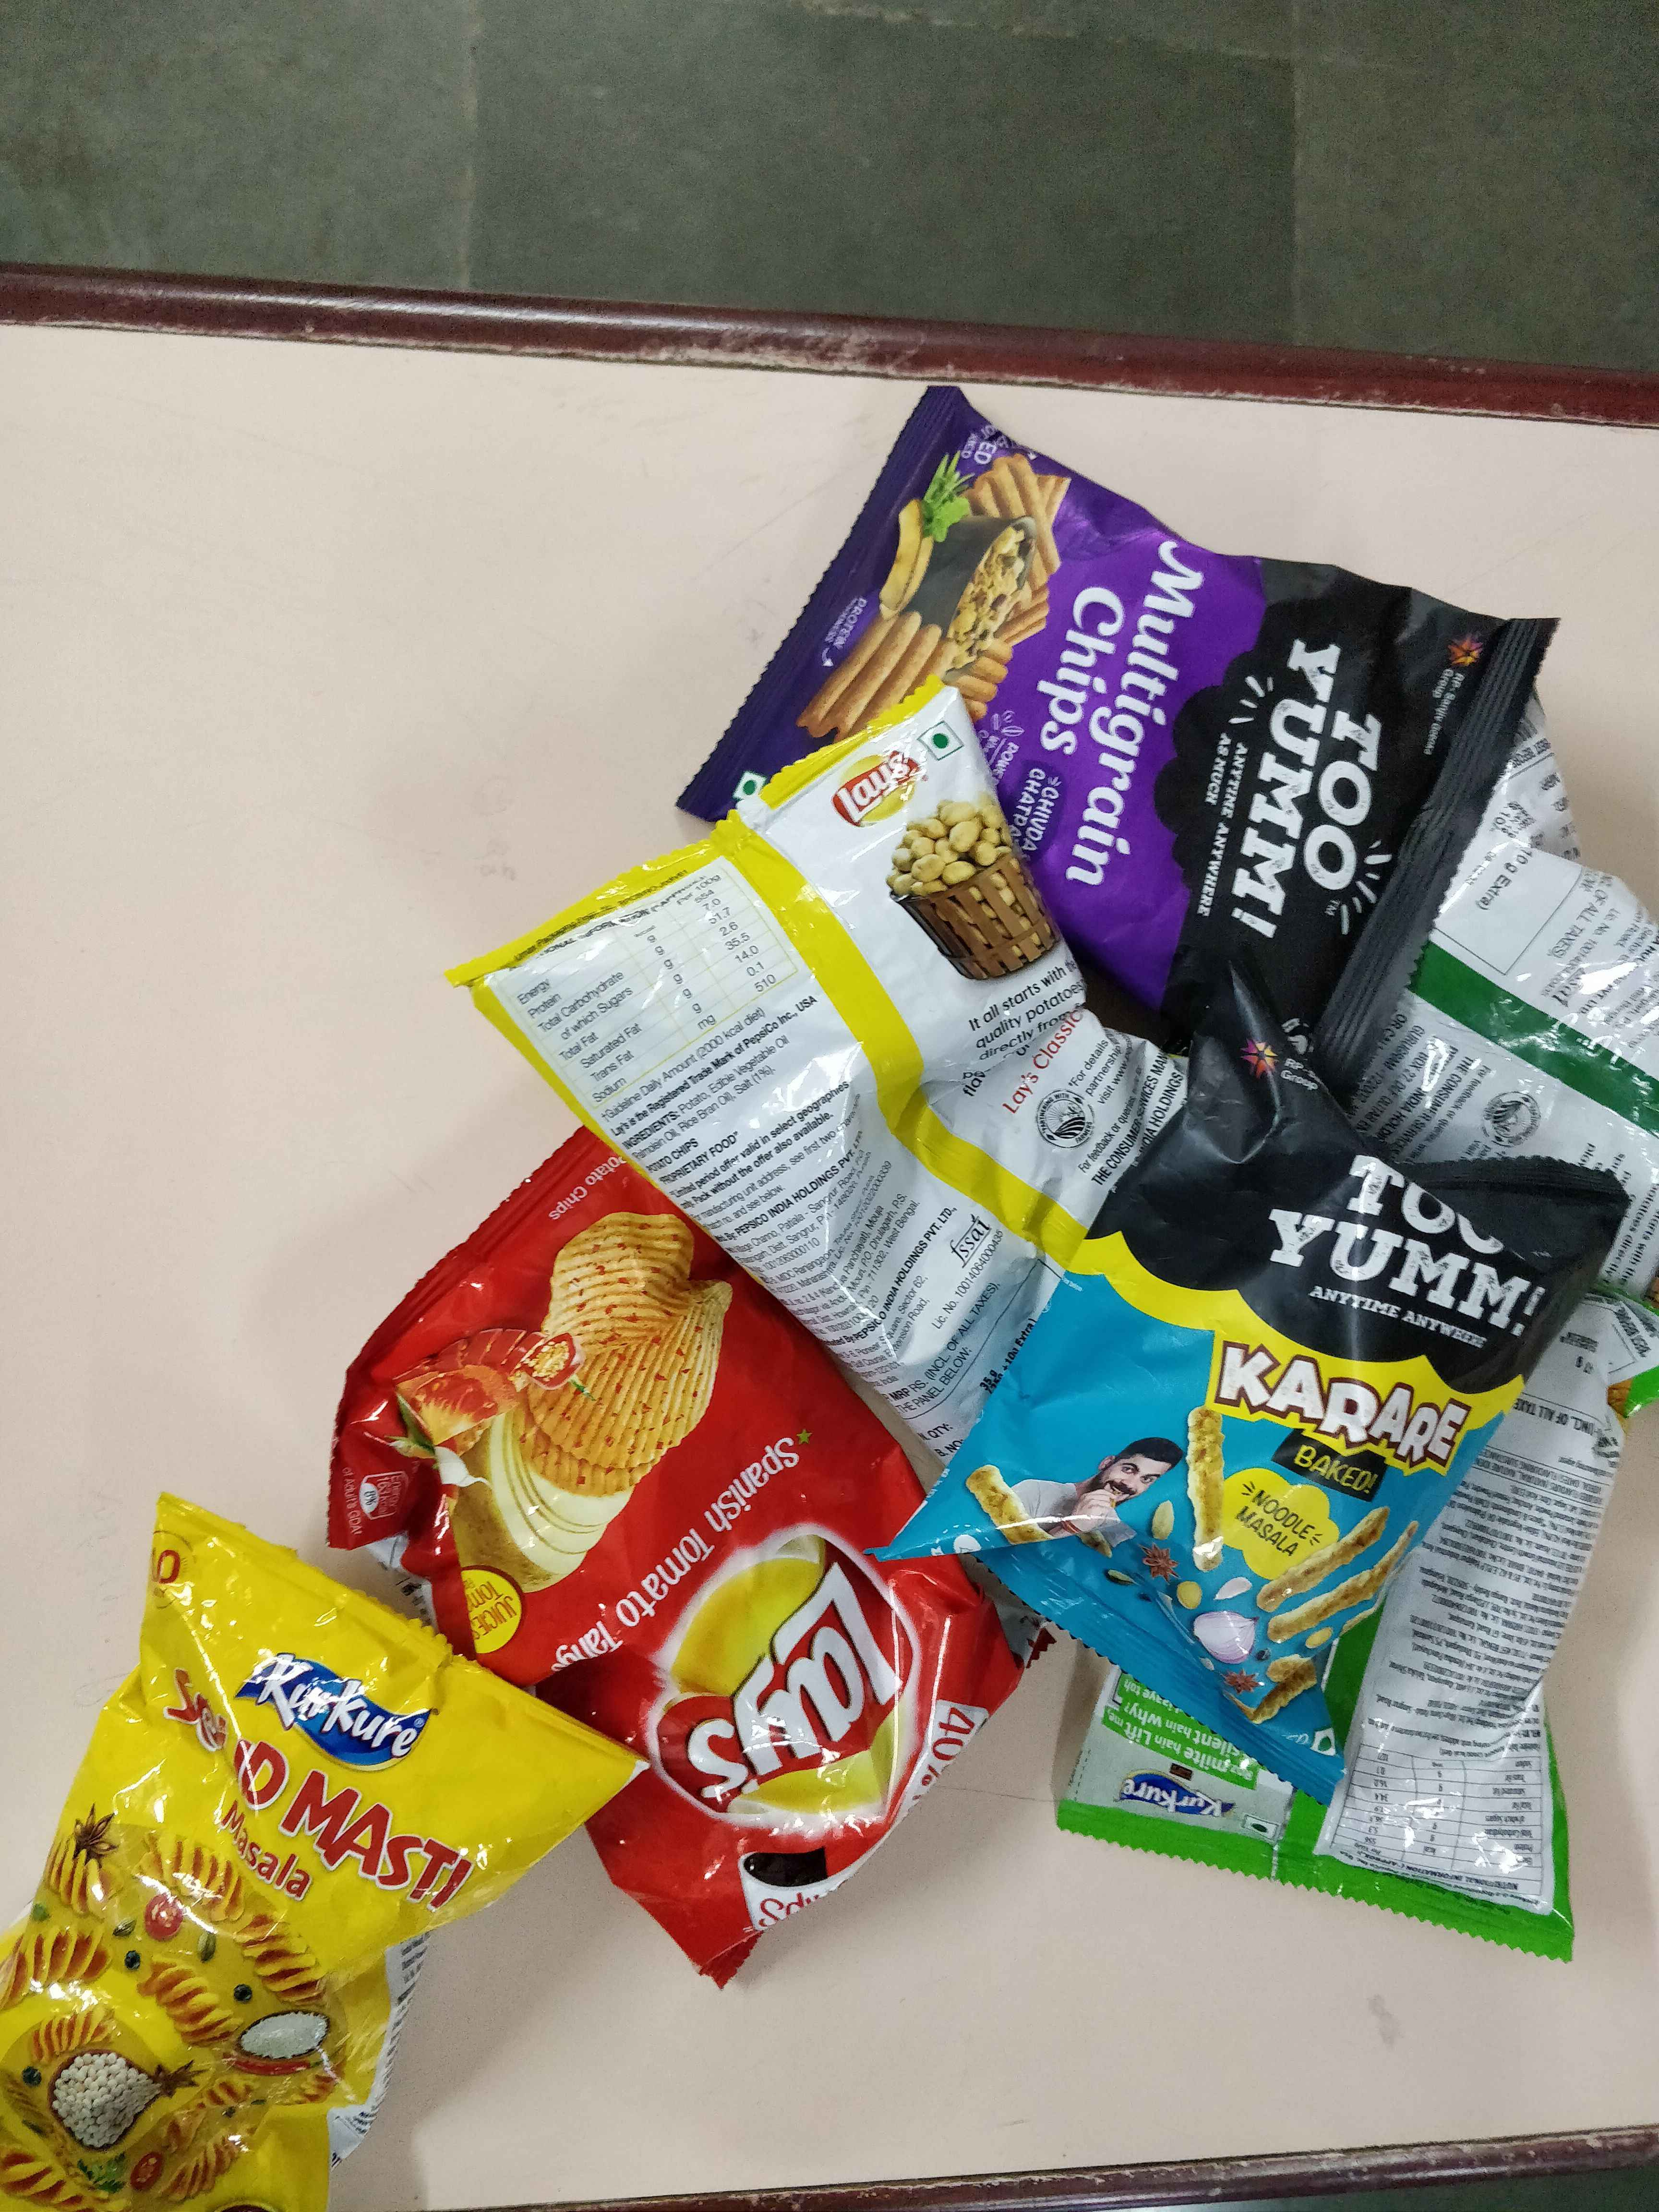Lays: (620, 1519, 946, 1844), (829, 740, 932, 843)
kurkure: (220, 1635, 455, 1792), (1117, 1759, 1223, 1827)
tooyumm: (1208, 583, 1415, 988), (1258, 1132, 1560, 1374)
